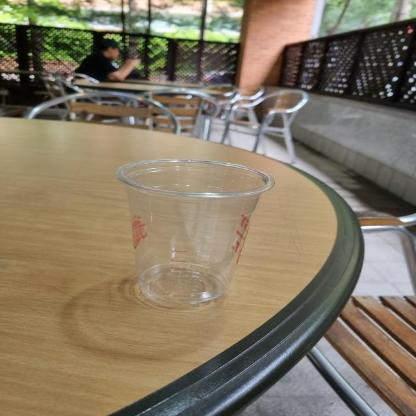Plastic Cup: (102, 154, 270, 312)
